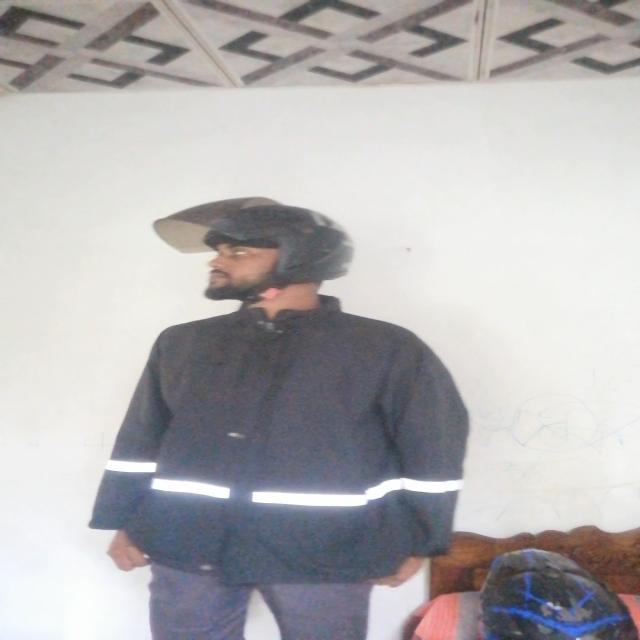Helmet_Wearer: (155, 197, 369, 320)
Jacket_Wearer: (93, 297, 464, 583)
Person: (90, 183, 462, 640)
